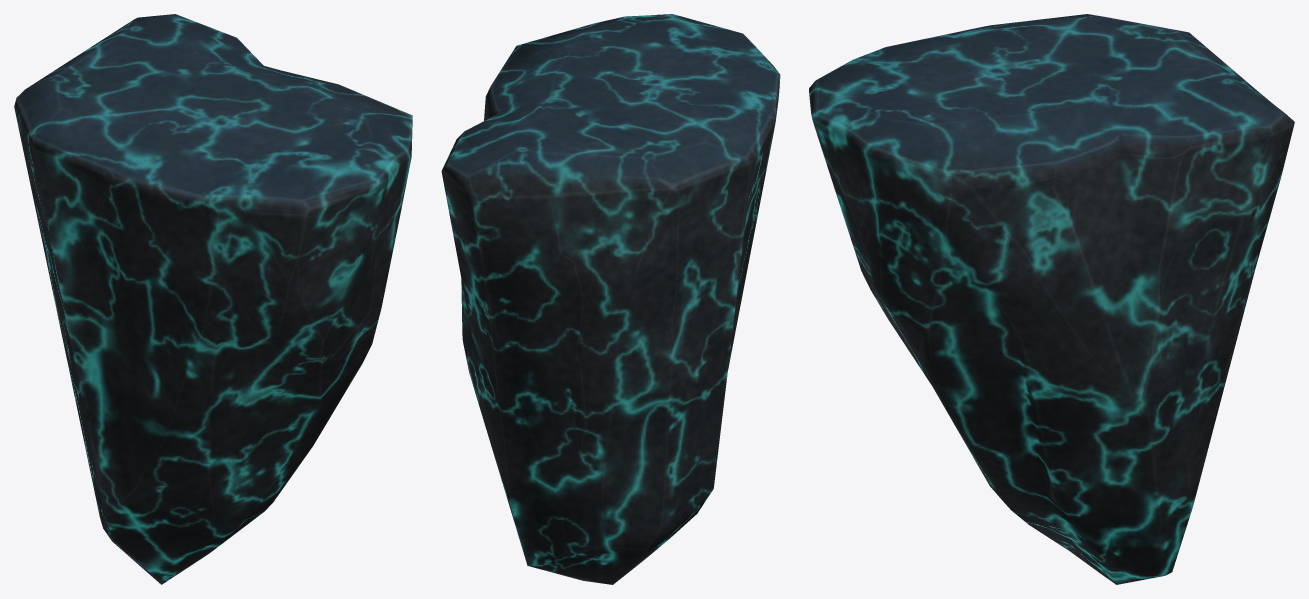
File: caos_stl_cliffrock_01b_soma_v36.glb
3 renders of one model, left to right at view 1: azimuth 30°, elevation 25°; view 2: azimuth 150°, elevation 25°; view 3: azimuth 270°, elevation 25°, orthographic. The views are drawn at different scales.
Visible parts, largest first — view 1: caos_stl_cliffrock_01b; view 2: caos_stl_cliffrock_01b; view 3: caos_stl_cliffrock_01b.
Boxes of the visible parts, left/top/right/bottom form: caos_stl_cliffrock_01b: left=14, top=14, right=412, bottom=584; caos_stl_cliffrock_01b: left=441, top=14, right=780, bottom=584; caos_stl_cliffrock_01b: left=809, top=14, right=1294, bottom=584.
Bounding box in the file's own units: 7.13 × 10.84 × 9.32.
Materials: 1 (1 with a texture image).
